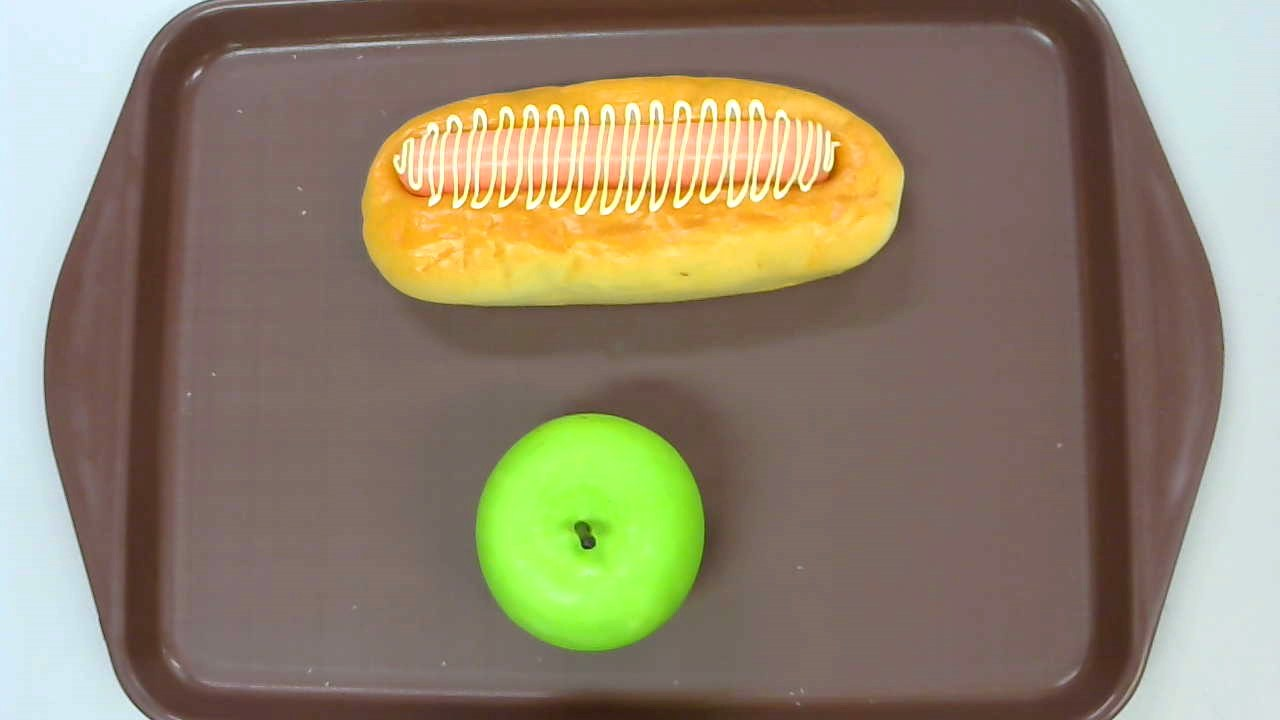green apple: (475, 412, 707, 654)
hot dog: (360, 76, 906, 306)
